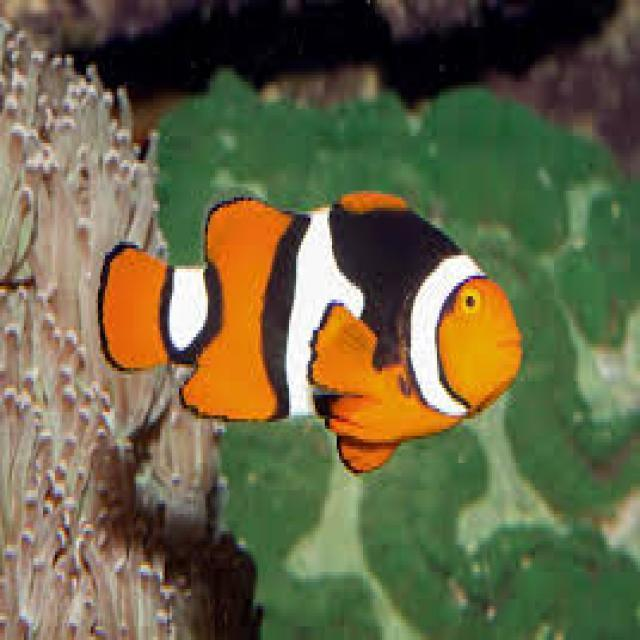ClownFish: (100, 190, 526, 474)
